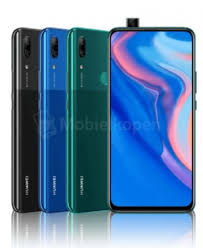huawei: (106, 23, 197, 215)
